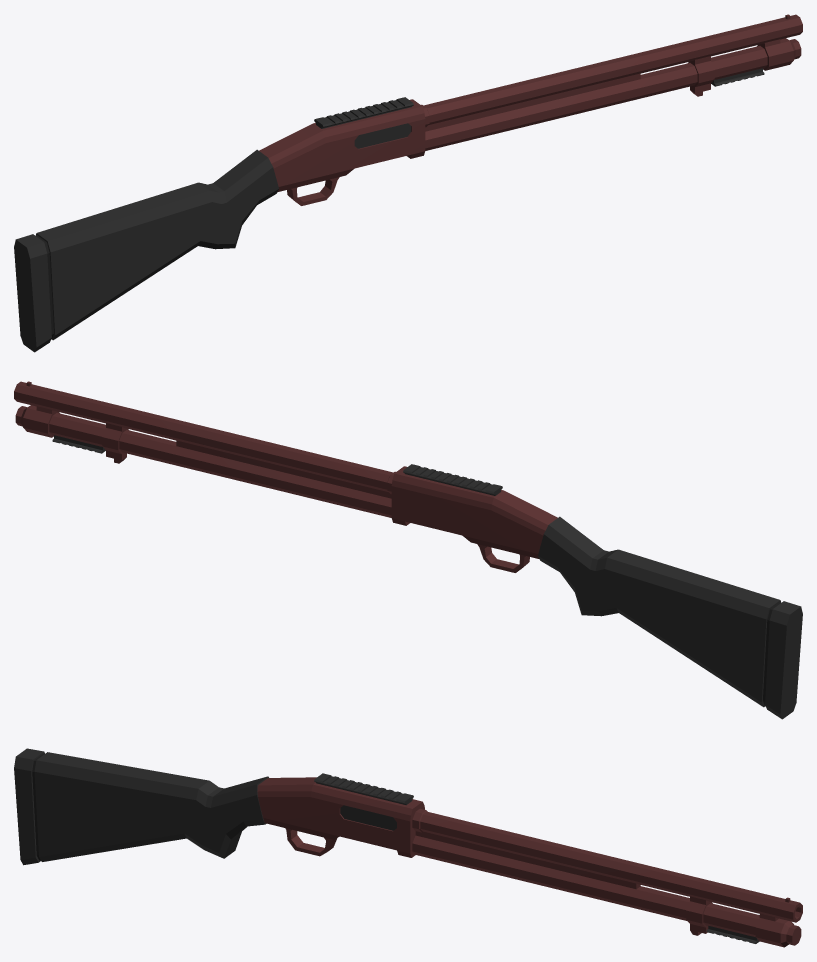
The model's file is Shotgun3_06.fbx.
3 views of the same model, one above another, from view 1: azimuth 30°, elevation 25°; view 2: azimuth 150°, elevation 25°; view 3: azimuth 330°, elevation 25° (orthographic).
Parts seen in each view (by area): view 1: Shotgun3_06; view 2: Shotgun3_06; view 3: Shotgun3_06.
Boxes of the visible parts, bbox=[...] form: Shotgun3_06: bbox=[14, 14, 802, 352]; Shotgun3_06: bbox=[14, 381, 802, 719]; Shotgun3_06: bbox=[14, 748, 802, 947].
Size of the model in its own units: 1.18 by 0.226 by 0.0424.
